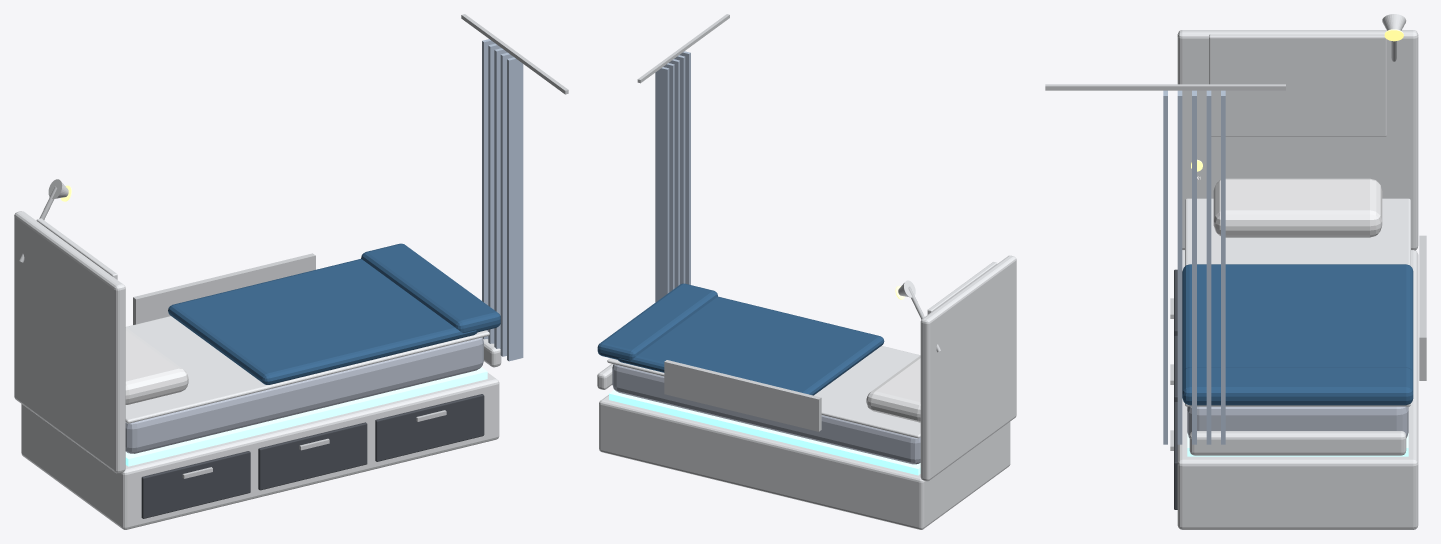
The model's file is smart_bed.glb.
3 views of the same model, side by side, from view 1: azimuth 30°, elevation 25°; view 2: azimuth 150°, elevation 25°; view 3: azimuth 270°, elevation 25° (orthographic). The views are drawn at different scales.
Visible parts, largest first — view 1: Headboard, Thermal_Blanket, Bed_Frame, Mattress, Fitted_Sheet, Privacy_Curtain, Blanket_Fold, Underbed_Drawer.001, Underbed_Drawer.002, Underbed_Drawer, Sleep_Sensor_Mat, Side_Rail (+6 smaller); view 2: Bed_Frame, Headboard, Thermal_Blanket, Mattress, Side_Rail, Fitted_Sheet, Blanket_Fold, Privacy_Curtain.004, Sleep_Sensor_Mat, Pillow, Privacy_Curtain, Privacy_Curtain.001 (+3 smaller); view 3: Thermal_Blanket, Bed_Frame, Headboard, Sleep_Software_Bezel, Pillow, Blanket_Fold, Fitted_Sheet, Mattress, Footboard, Privacy_Curtain.001, Privacy_Curtain.003, Privacy_Curtain (+5 smaller).
Boxes of the visible parts, <box> form: Headboard: <box>14,211,125,473</box>; Thermal_Blanket: <box>168,259,477,384</box>; Bed_Frame: <box>21,373,499,529</box>; Mattress: <box>125,337,483,453</box>; Fitted_Sheet: <box>125,316,489,423</box>; Privacy_Curtain: <box>507,57,523,361</box>; Blanket_Fold: <box>361,243,500,332</box>; Underbed_Drawer.001: <box>258,422,367,490</box>; Underbed_Drawer.002: <box>375,394,484,461</box>; Underbed_Drawer: <box>141,451,250,518</box>; Sleep_Sensor_Mat: <box>125,367,487,466</box>; Side_Rail: <box>133,253,315,324</box>; Bed_Frame: <box>599,395,1010,529</box>; Headboard: <box>920,255,1016,481</box>; Thermal_Blanket: <box>617,296,884,395</box>; Mattress: <box>612,364,920,464</box>; Side_Rail: <box>664,360,821,431</box>; Fitted_Sheet: <box>607,346,920,438</box>; Blanket_Fold: <box>597,283,717,360</box>; Privacy_Curtain.004: <box>655,67,669,302</box>; Sleep_Sensor_Mat: <box>609,390,920,475</box>; Pillow: <box>866,355,920,422</box>; Privacy_Curtain: <box>679,51,690,284</box>; Privacy_Curtain.001: <box>674,55,685,284</box>; Thermal_Blanket: <box>1182,264,1413,373</box>; Bed_Frame: <box>1177,250,1418,529</box>; Headboard: <box>1177,30,1418,250</box>; Sleep_Software_Bezel: <box>1209,34,1386,136</box>; Pillow: <box>1213,178,1382,237</box>; Blanket_Fold: <box>1182,367,1413,405</box>; Fitted_Sheet: <box>1185,198,1410,406</box>; Mattress: <box>1187,406,1408,437</box>; Footboard: <box>1189,431,1406,455</box>; Privacy_Curtain.001: <box>1177,90,1182,444</box>; Privacy_Curtain.003: <box>1206,90,1211,444</box>; Privacy_Curtain: <box>1163,90,1167,444</box>.
Bounding box in the file's own units: 2.25 × 2.07 × 1.58.
